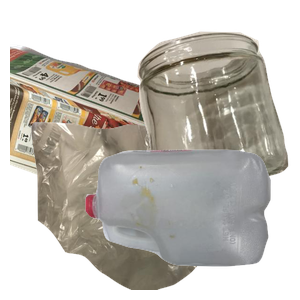glass: (135, 29, 300, 209)
paper: (10, 42, 224, 222)
plastic: (83, 147, 300, 300)
trash: (29, 120, 265, 300)
